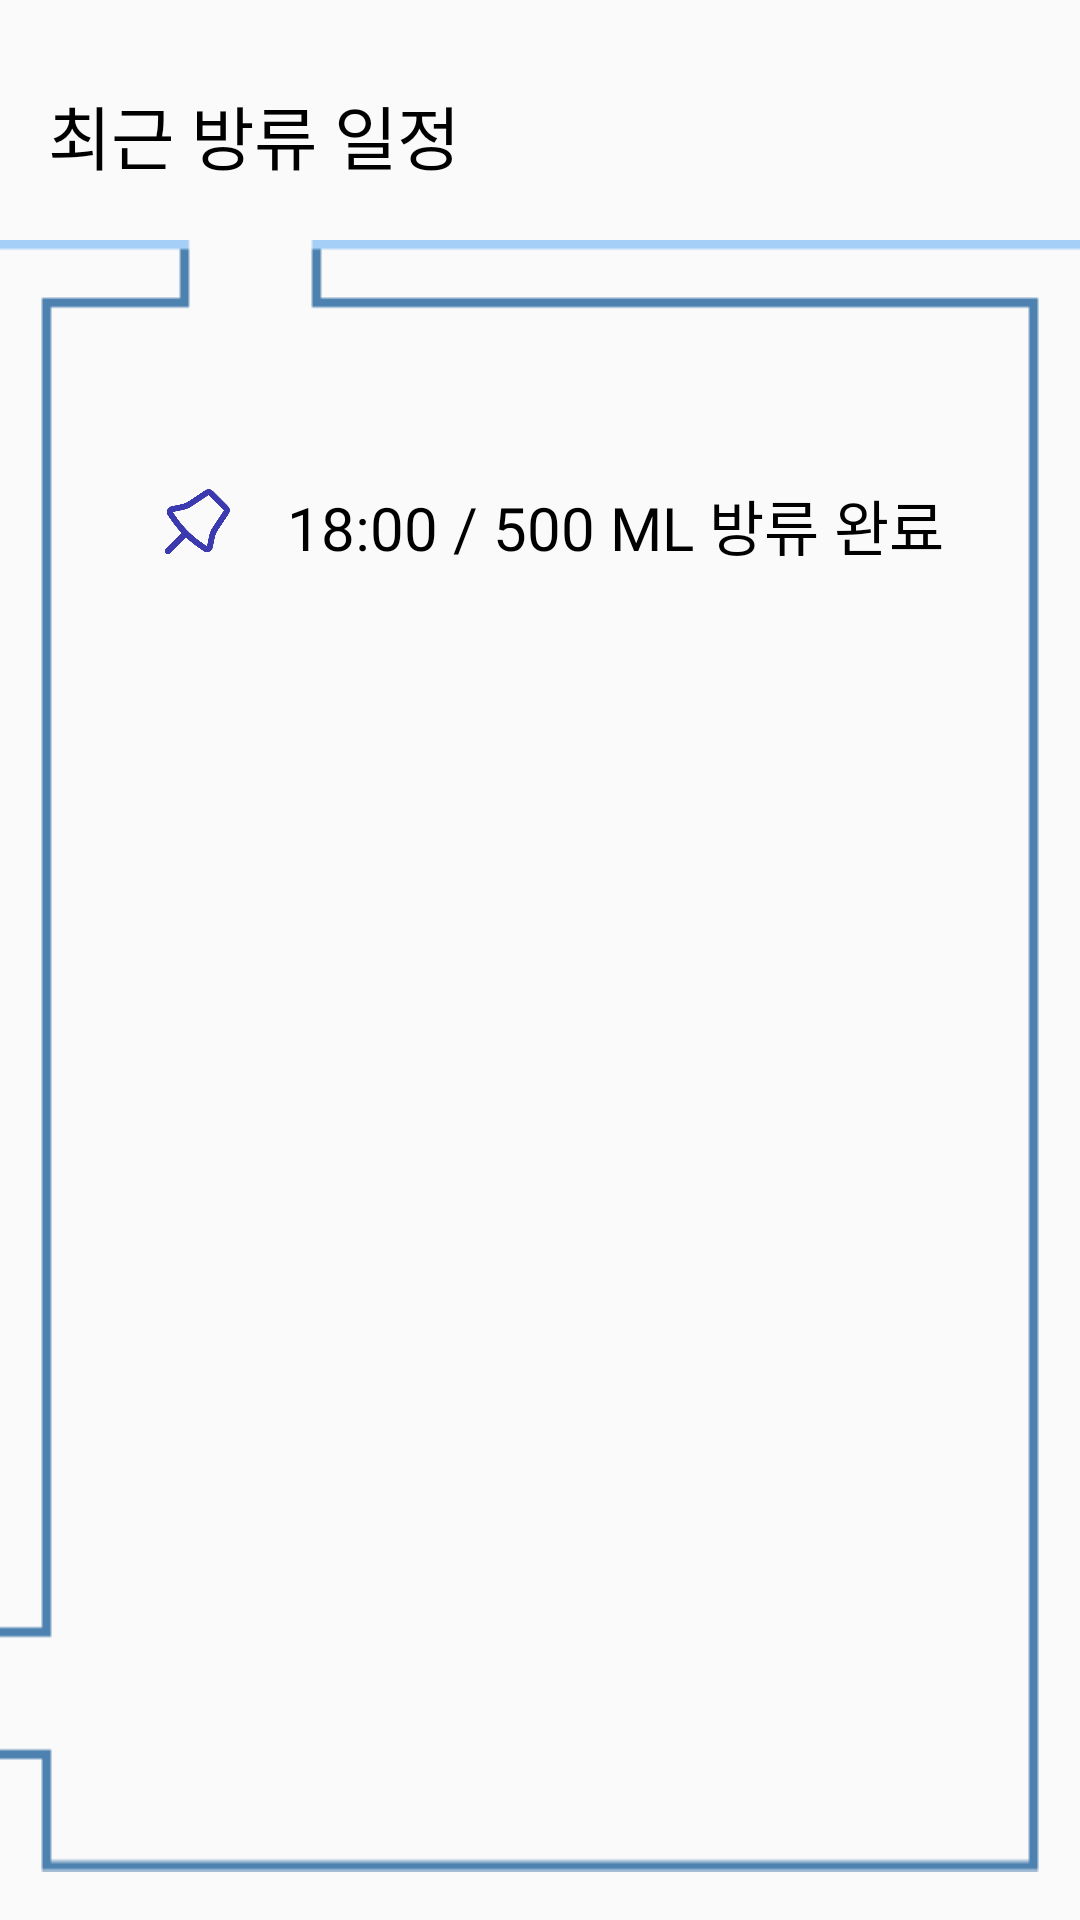

Icons on this 1080 × 1920 Android screen, each with its box as (x1, y1, x2, y2):
pin: (165, 489, 230, 554)
